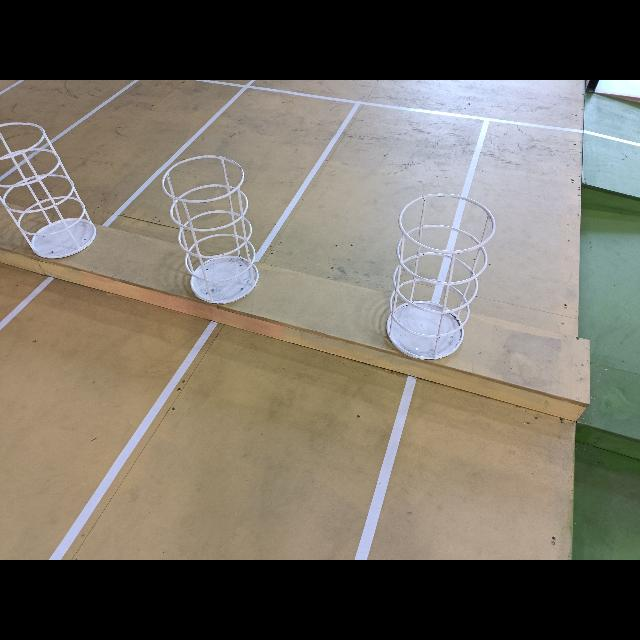S: (382, 194, 495, 362), (160, 156, 260, 303), (0, 121, 98, 259)
